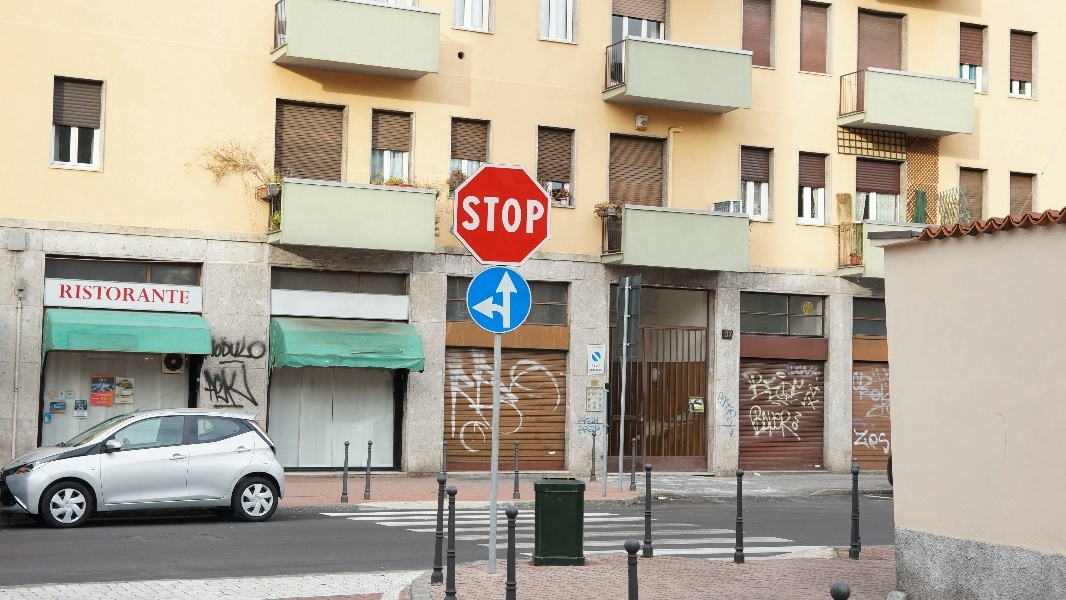text: (449, 350, 464, 466), (465, 350, 480, 466), (481, 350, 496, 466), (497, 350, 512, 466), (513, 350, 528, 466), (529, 350, 544, 466), (545, 350, 560, 466), (721, 391, 736, 440), (753, 363, 768, 411), (769, 363, 784, 411), (785, 363, 800, 411), (801, 363, 816, 411), (209, 364, 224, 408), (225, 364, 240, 408), (241, 364, 256, 408), (465, 195, 480, 234), (481, 195, 496, 234), (497, 195, 512, 234), (513, 195, 528, 234), (529, 195, 544, 234), (753, 404, 768, 440), (769, 404, 784, 440), (785, 404, 800, 440), (741, 363, 752, 411), (198, 364, 208, 408), (865, 428, 880, 453), (865, 371, 876, 402), (801, 361, 816, 382), (854, 371, 864, 402), (65, 284, 80, 304), (81, 284, 96, 304), (97, 284, 112, 304), (113, 284, 128, 304), (129, 284, 144, 304), (145, 284, 160, 304), (161, 284, 176, 304), (225, 340, 240, 360), (241, 340, 256, 360), (881, 428, 892, 453), (257, 340, 270, 360), (854, 428, 864, 453), (177, 284, 189, 304), (212, 340, 224, 360), (817, 363, 822, 411), (545, 195, 551, 234), (789, 361, 800, 382), (578, 425, 592, 435), (447, 350, 448, 466), (561, 350, 562, 466), (749, 404, 752, 440), (579, 416, 592, 424), (737, 391, 739, 440), (817, 361, 821, 382), (60, 284, 64, 304), (593, 425, 601, 435), (796, 412, 800, 431), (725, 332, 736, 338), (529, 395, 542, 399), (99, 379, 112, 383), (257, 364, 258, 408), (593, 416, 598, 424), (801, 412, 803, 431), (801, 404, 802, 440), (593, 366, 608, 368), (593, 346, 603, 349), (593, 369, 603, 372), (593, 372, 604, 374), (590, 346, 592, 349), (590, 369, 592, 372), (590, 372, 592, 374)
